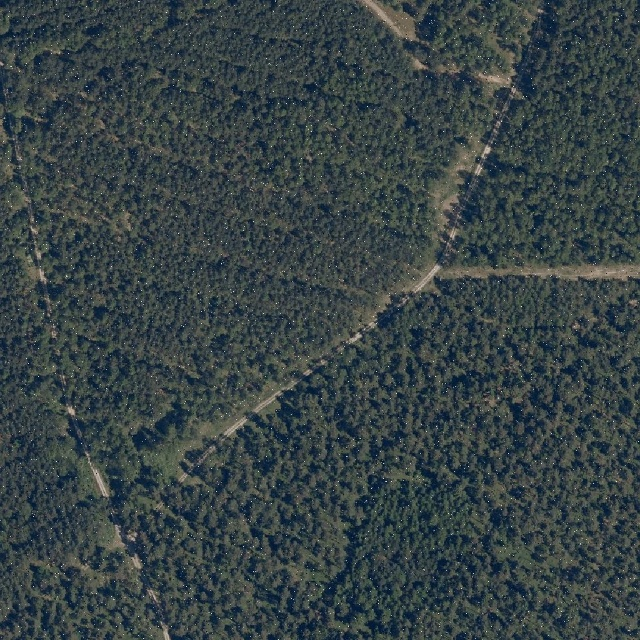vegetation: (134, 279, 640, 640), (0, 78, 167, 640), (442, 0, 640, 268), (388, 0, 543, 79)
